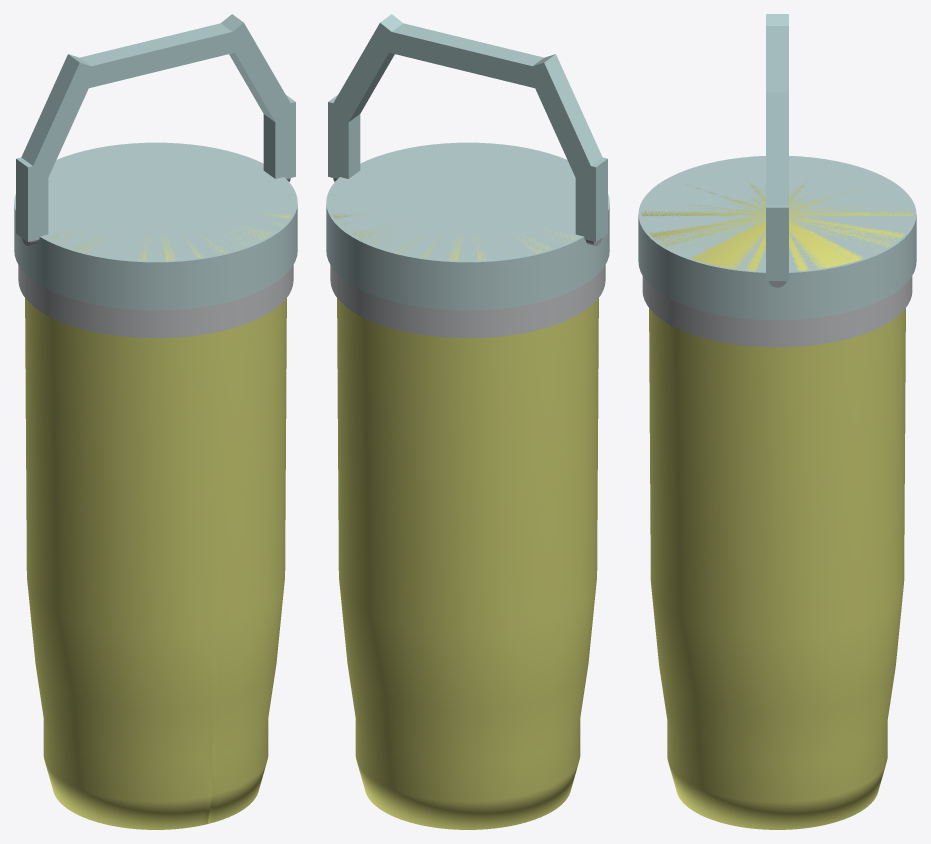
The model's file is stanley-iceflow-30.glb.
The picture shows the model from 3 angles, left to right: view 1: azimuth 30°, elevation 25°; view 2: azimuth 150°, elevation 25°; view 3: azimuth 270°, elevation 25°; orthographic projection.
Visible parts, largest first — view 1: body_mesh, lid_mesh, handle_group, rim_mesh; view 2: body_mesh, lid_mesh, handle_group, rim_mesh; view 3: body_mesh, lid_mesh, rim_mesh, handle_group.
Boxes of the visible parts, x1=… form: body_mesh: x1=25, y1=212, x2=290, y2=829; lid_mesh: x1=14, y1=142, x2=297, y2=310; handle_group: x1=16, y1=14, x2=295, y2=245; rim_mesh: x1=18, y1=265, x2=293, y2=338; body_mesh: x1=333, y1=213, x2=598, y2=829; lid_mesh: x1=326, y1=142, x2=609, y2=310; handle_group: x1=328, y1=14, x2=607, y2=245; rim_mesh: x1=330, y1=265, x2=605, y2=338; body_mesh: x1=641, y1=178, x2=913, y2=829; lid_mesh: x1=638, y1=155, x2=916, y2=320; rim_mesh: x1=642, y1=276, x2=912, y2=347; handle_group: x1=766, y1=14, x2=788, y2=287.
Bounding box in the file's own units: 105 × 280 × 96.1.
